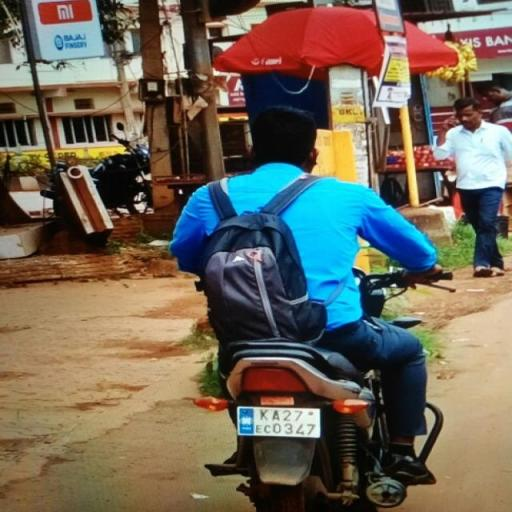bike: (164, 102, 450, 512)
numberplate: (236, 406, 322, 438)
withouthelmet: (250, 106, 316, 163)
